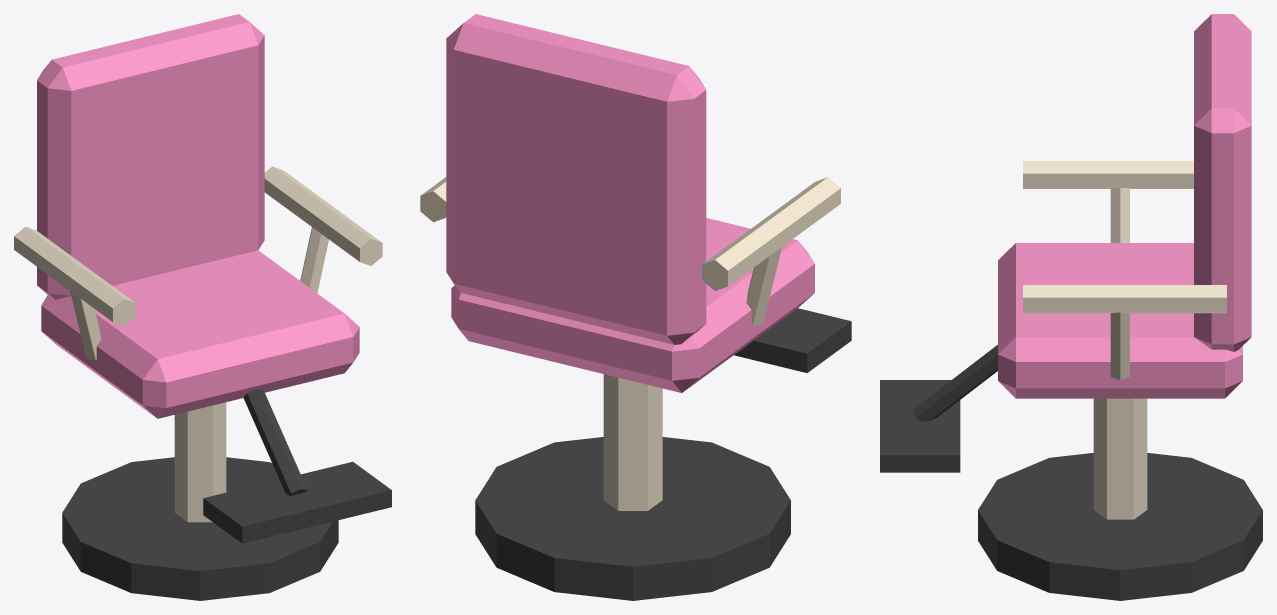
3 renders of one model, left to right at view 1: azimuth 30°, elevation 25°; view 2: azimuth 150°, elevation 25°; view 3: azimuth 270°, elevation 25°, orthographic. The views are drawn at different scales.
Parts seen in each view (by area): view 1: Back, Seat, Base, Footrest, Hydraulic post, Arm, Arm.001, Footrest support, Arm support.001, Arm support; view 2: Back, Base, Seat, Hydraulic post, Arm, Footrest, Arm support, Arm.001; view 3: Base, Seat, Back, Hydraulic post, Footrest, Arm.001, Arm, Footrest support, Arm support.001, Arm support.
Part boxes in pixels (x1,y1,x2,y2): Back: (37, 14, 264, 299); Seat: (41, 250, 359, 418); Base: (62, 457, 338, 600); Footrest: (203, 461, 391, 543); Hydraulic post: (174, 402, 226, 522); Arm: (14, 226, 135, 326); Arm.001: (264, 166, 382, 265); Footrest support: (243, 389, 307, 495); Arm support.001: (300, 227, 328, 292); Arm support: (70, 291, 100, 360); Back: (446, 14, 706, 344); Base: (475, 437, 790, 600); Seat: (451, 218, 814, 392); Hydraulic post: (603, 374, 662, 510); Arm: (702, 177, 840, 290); Footrest: (734, 308, 851, 372); Arm support: (746, 247, 781, 326); Arm.001: (420, 177, 446, 222); Base: (978, 453, 1262, 600); Seat: (998, 243, 1242, 398); Back: (1194, 14, 1251, 351); Hydraulic post: (1093, 398, 1147, 519); Footrest: (880, 380, 960, 472); Arm.001: (1023, 285, 1226, 313); Arm: (1023, 161, 1193, 188); Footrest support: (913, 345, 997, 421); Arm support.001: (1110, 312, 1129, 380); Arm support: (1110, 187, 1129, 242).
Size of the model in its own units: 79.27 by 131 by 94.6.
